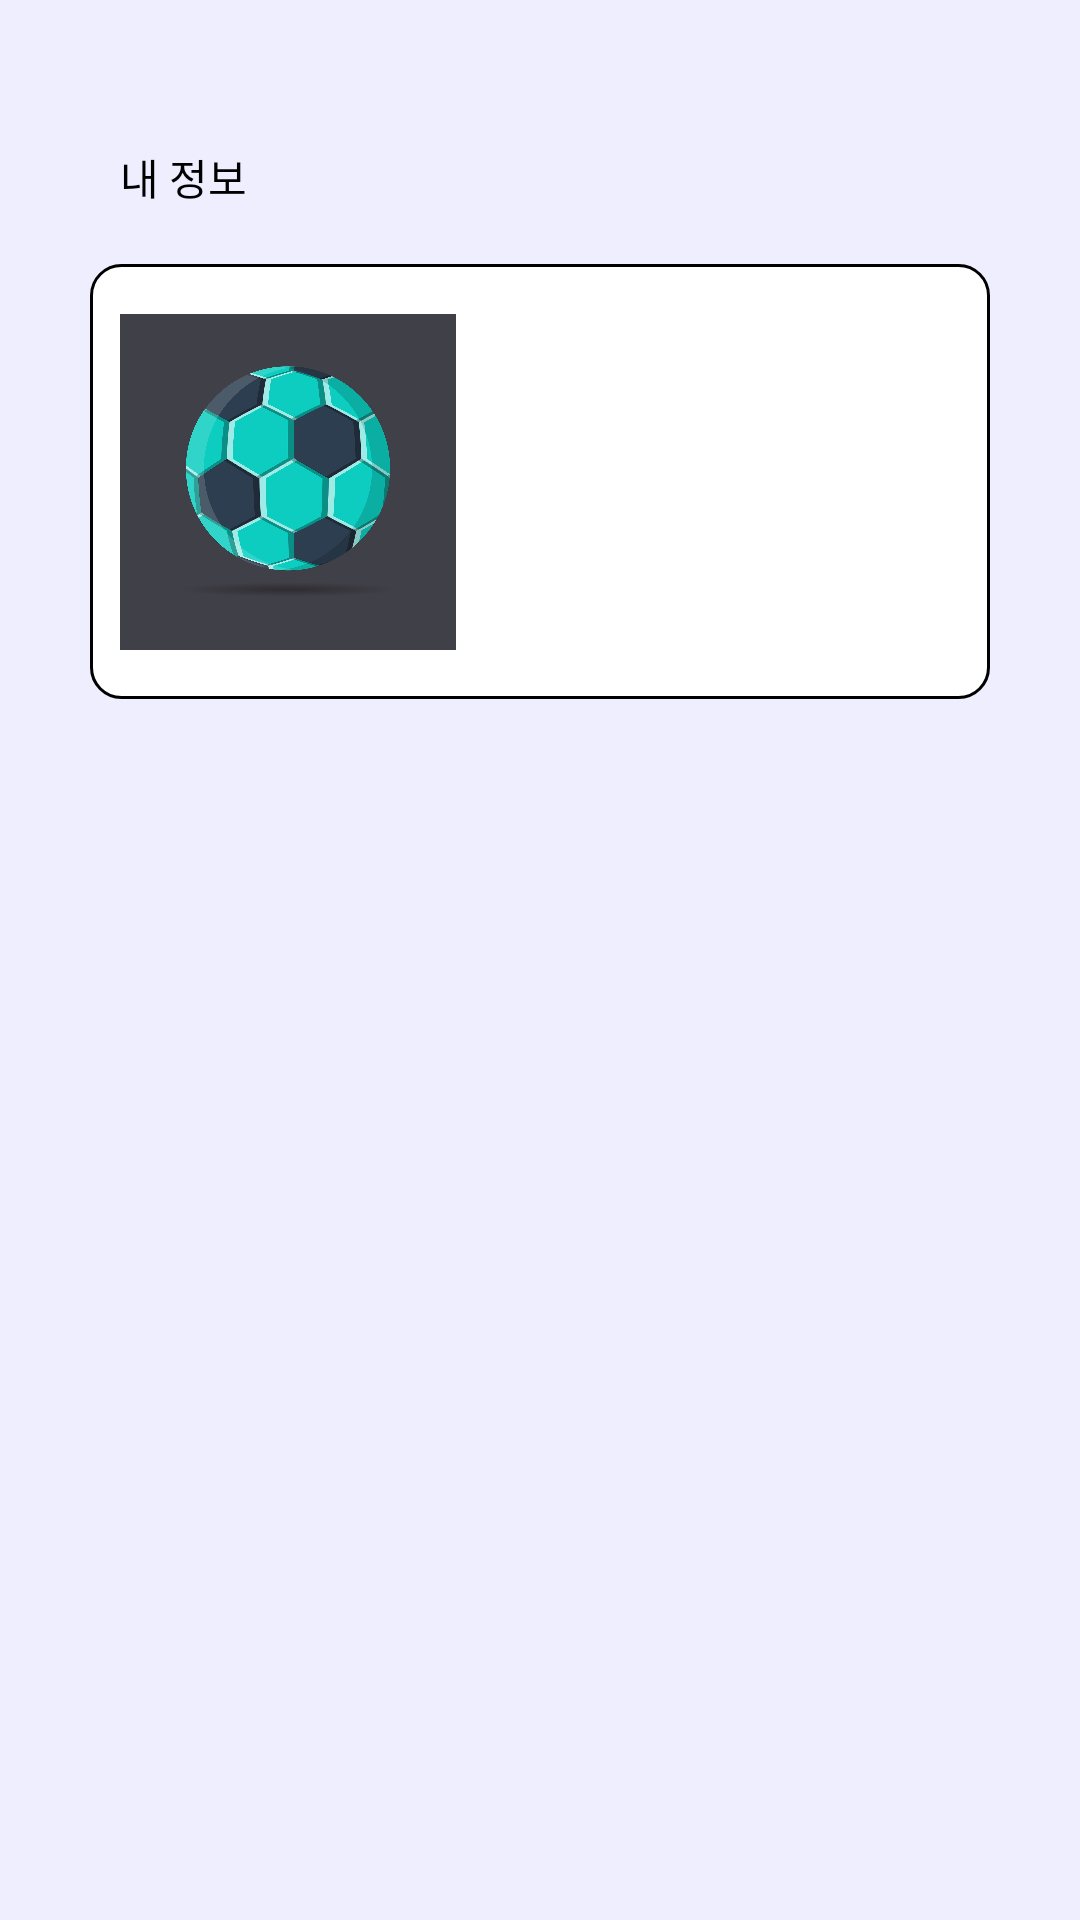

Point at icon controls on the screen. Image size 1080px x 1920px, points as point (x, y).
ball: point (288, 482)
